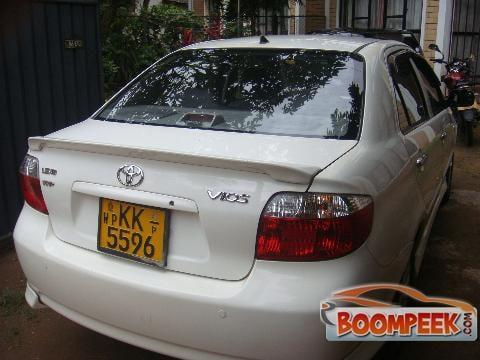license-plate: (99, 195, 162, 267)
